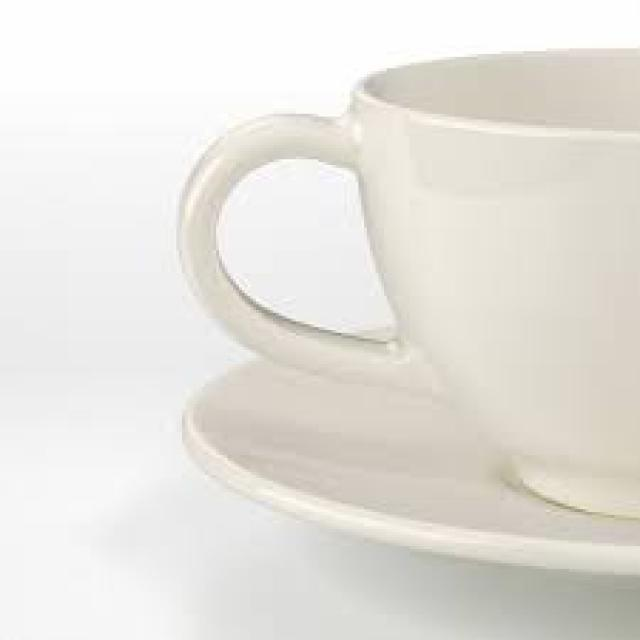taza: (167, 47, 640, 530)
